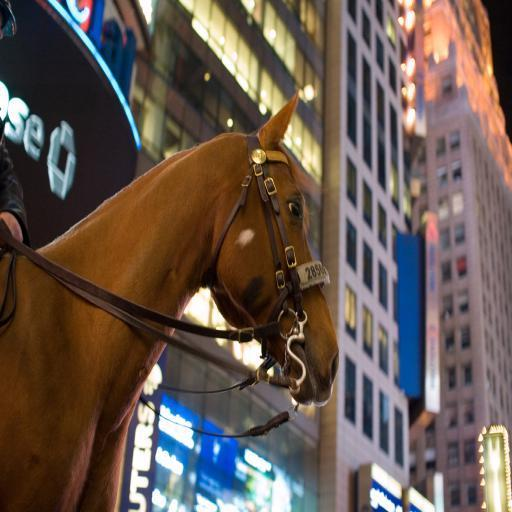horse: (0, 88, 341, 512)
